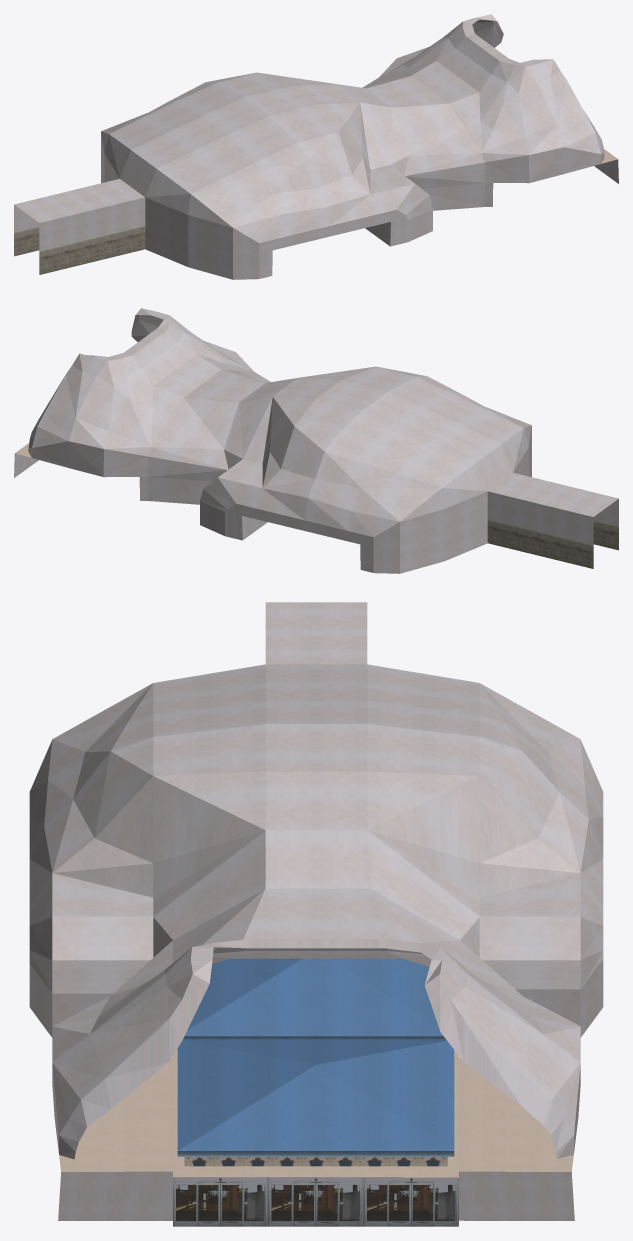
The model's file is sphinx02_lvs.obj.
3 renders of one model, top to bottom at view 1: azimuth 30°, elevation 25°; view 2: azimuth 150°, elevation 25°; view 3: azimuth 270°, elevation 25°, orthographic. The views are drawn at different scales.
Visible parts, largest first — view 1: sphinx02_lvs; view 2: sphinx02_lvs; view 3: sphinx02_lvs.
Boxes of the visible parts, bbox=[...] form: sphinx02_lvs: bbox=[14, 14, 618, 279]; sphinx02_lvs: bbox=[14, 308, 618, 573]; sphinx02_lvs: bbox=[29, 602, 603, 1226].
Size of the model in its own units: 90.81 by 17.54 by 42.14.
9 materials, 9 textured.
